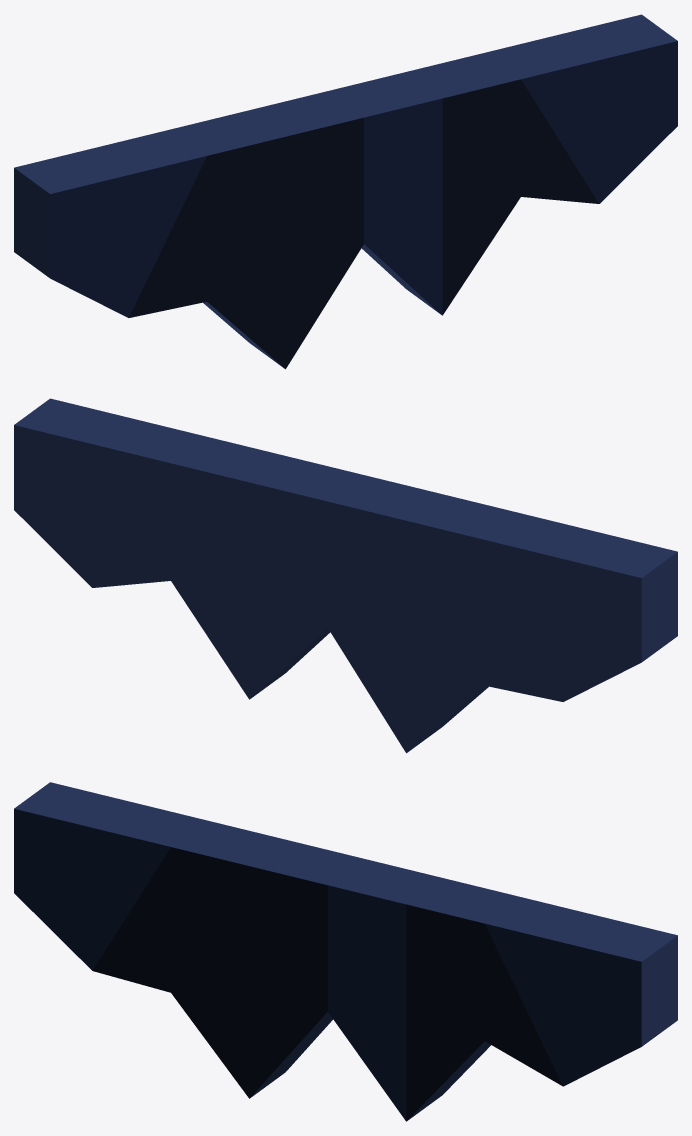
File: bigGroundobj.obj
The picture shows the model from 3 angles, top to bottom: view 1: azimuth 30°, elevation 25°; view 2: azimuth 150°, elevation 25°; view 3: azimuth 330°, elevation 25°; orthographic projection.
Parts seen in each view (by area): view 1: 立方体.001; view 2: 立方体.001; view 3: 立方体.001.
Part boxes in pixels (box(x1,y1,x2,y2)): 立方体.001: box(14, 14, 677, 369); 立方体.001: box(14, 398, 677, 753); 立方体.001: box(14, 782, 677, 1121).
Bounding box in the file's own units: 6 × 2.13 × 0.6.
